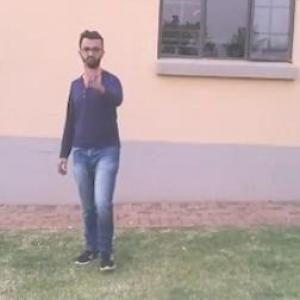takeoff-hand: (77, 61, 113, 99)
